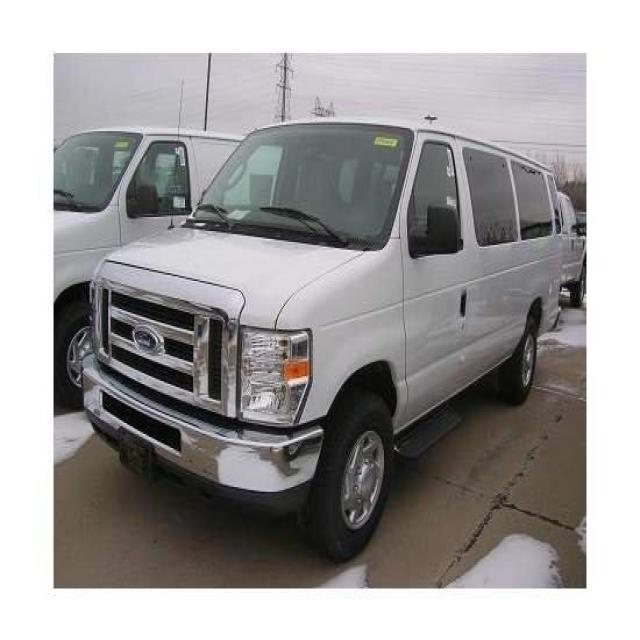Truck: (89, 103, 572, 509)
